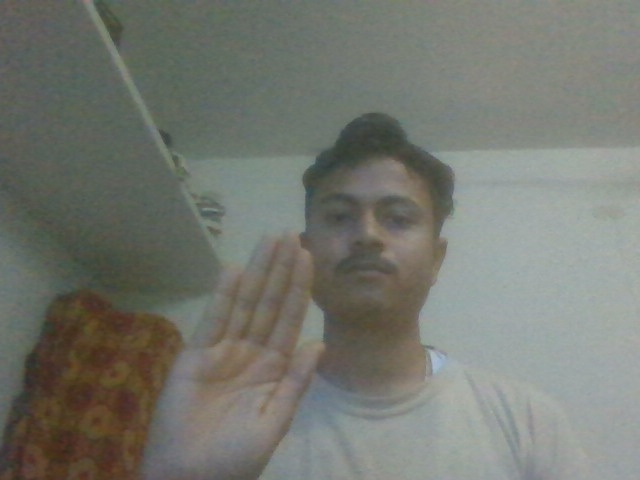Hello: (135, 222, 344, 480)
